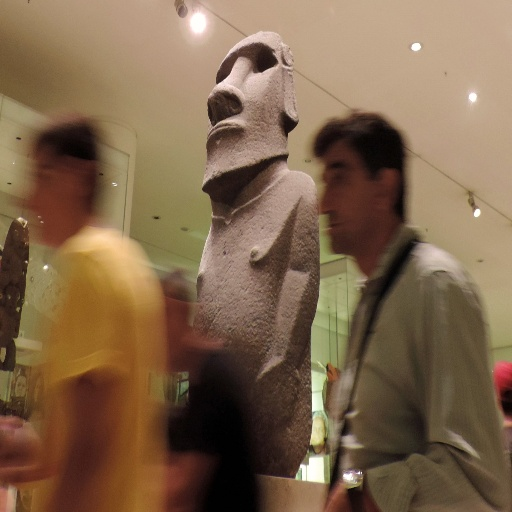hand: (323, 480, 348, 511)
